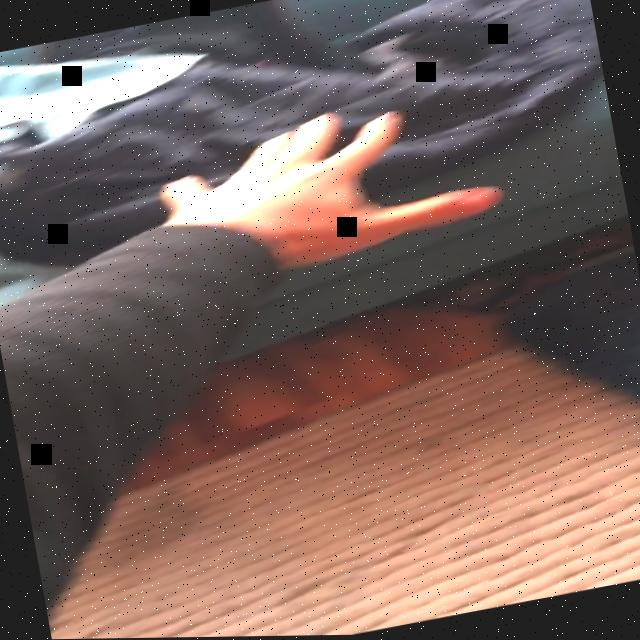Paper: (148, 82, 507, 292)
